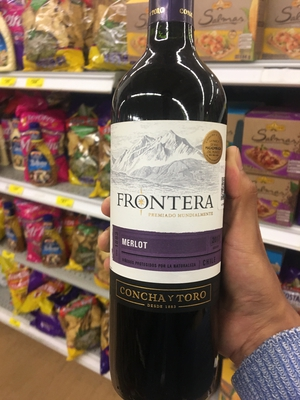frontera merlot: (107, 15, 229, 391)
